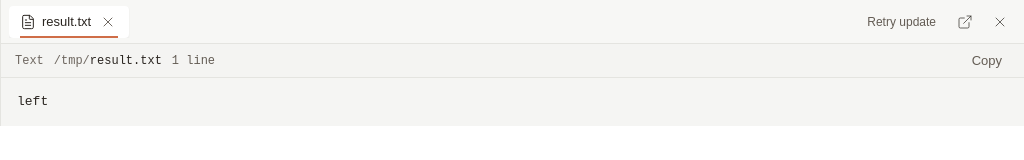
Test: completed coding changes refresh the existing artifact › retains a good preview after a failed read and offers an explicit retry
Expected: the text "left" is shown, [17, 94, 48, 109]
Click the button "Retry update". click: (902, 22)
box: [859, 10, 944, 34]
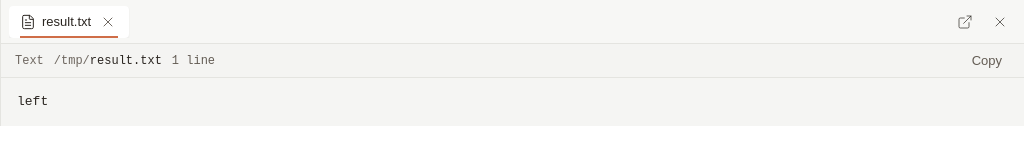
Expected: the button "Retry update" is gone
